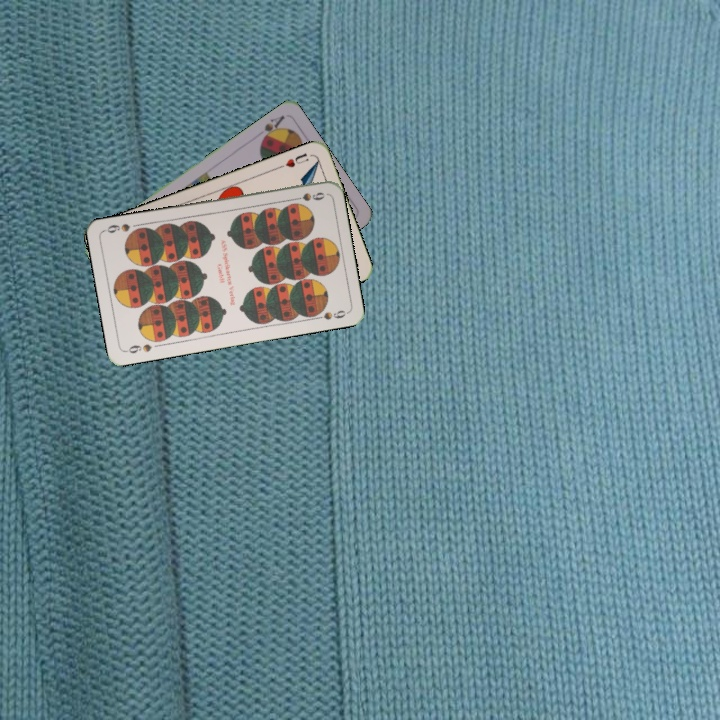HU: (275, 149, 311, 171)
S9: (287, 188, 327, 204), (122, 340, 155, 356)
SA: (256, 111, 287, 145)
